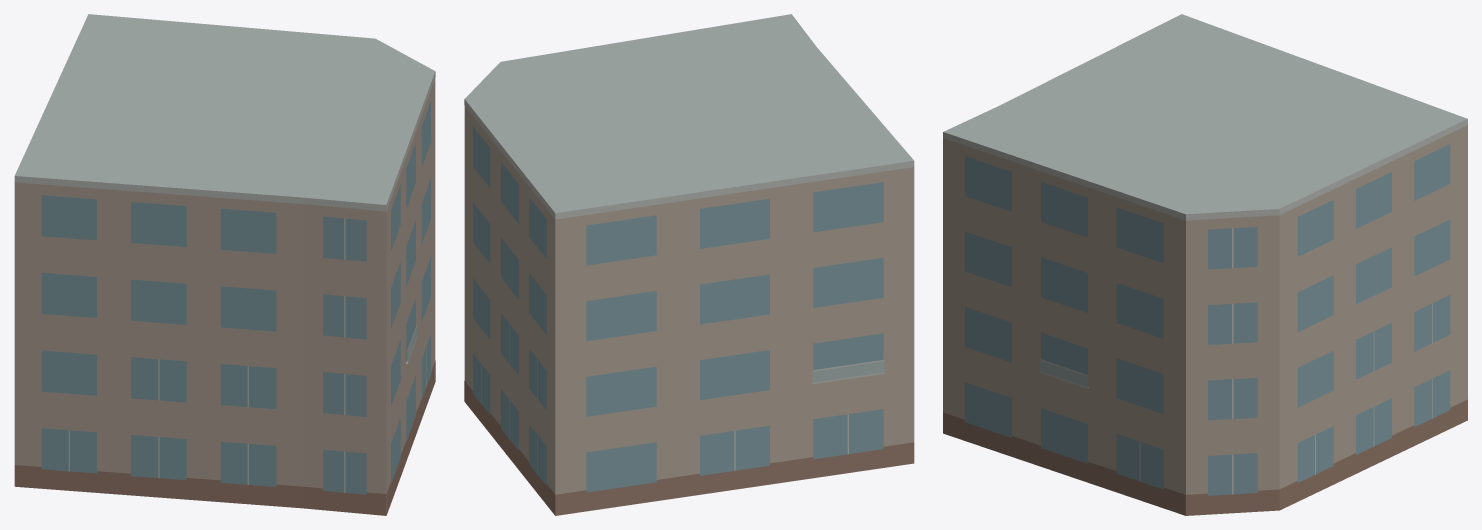
The model's file is survey-upis-32704691.glb.
3 renders of one model, left to right at view 1: azimuth 30°, elevation 25°; view 2: azimuth 150°, elevation 25°; view 3: azimuth 270°, elevation 25°, orthographic. The views are drawn at different scales.
Visible parts, largest first — view 1: survey-upis-32704691.tmp; view 2: survey-upis-32704691.tmp; view 3: survey-upis-32704691.tmp.
Boxes of the visible parts, x1=… form: survey-upis-32704691.tmp: x1=14, y1=14, x2=435, y2=515; survey-upis-32704691.tmp: x1=464, y1=14, x2=914, y2=515; survey-upis-32704691.tmp: x1=943, y1=14, x2=1467, y2=515.
Size of the model in its own units: 16.75 by 11.75 by 18.54.
